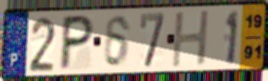1: (224, 9, 241, 66)
2: (29, 14, 58, 74)
6: (102, 15, 132, 69)
7: (138, 10, 167, 70)
H: (170, 8, 211, 69)
P: (57, 14, 96, 72)
